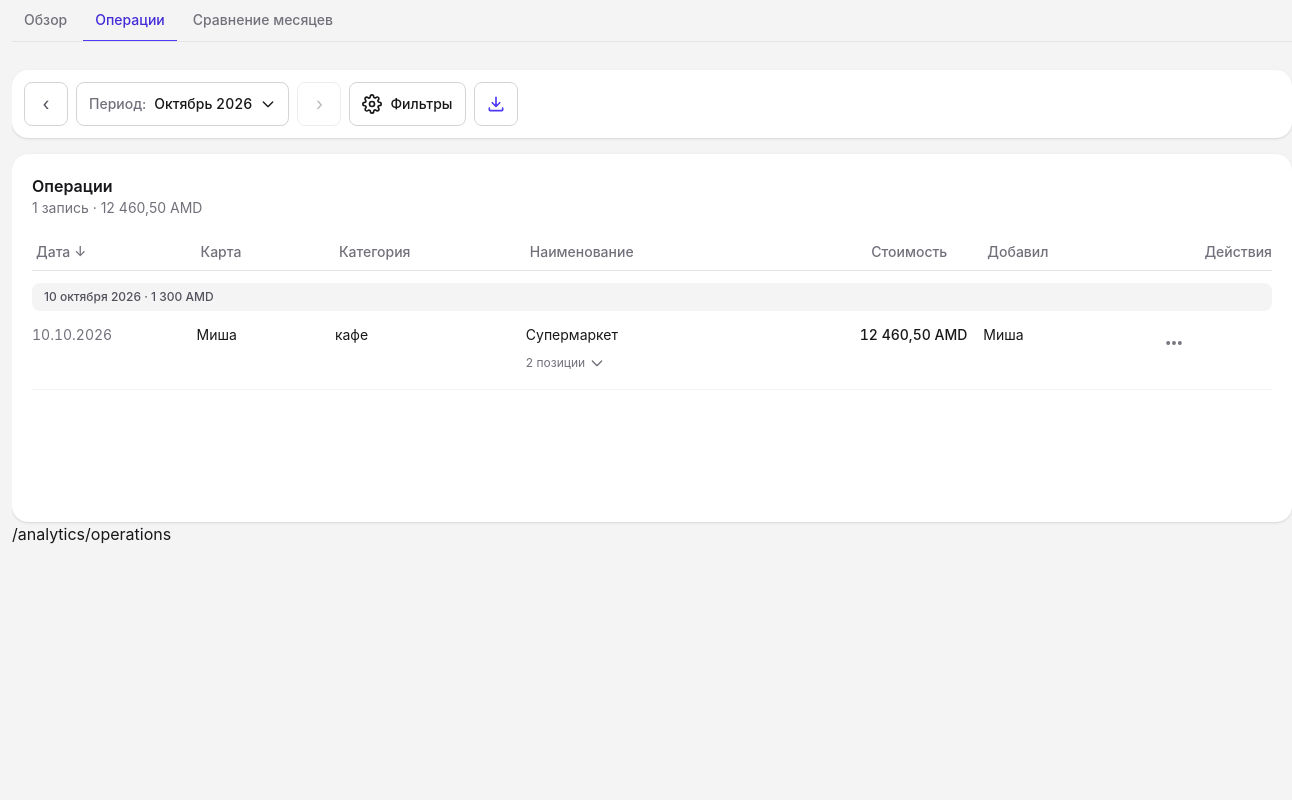
позиции в списке операций › клик раскрывает список; у сгенерированной позиции пометка AI, у ручной нет
Expected: the text "Супермаркет" is shown, 526,325 -> 618,345
Click the button "2 позиции": (569, 363) 526,347 -> 613,379
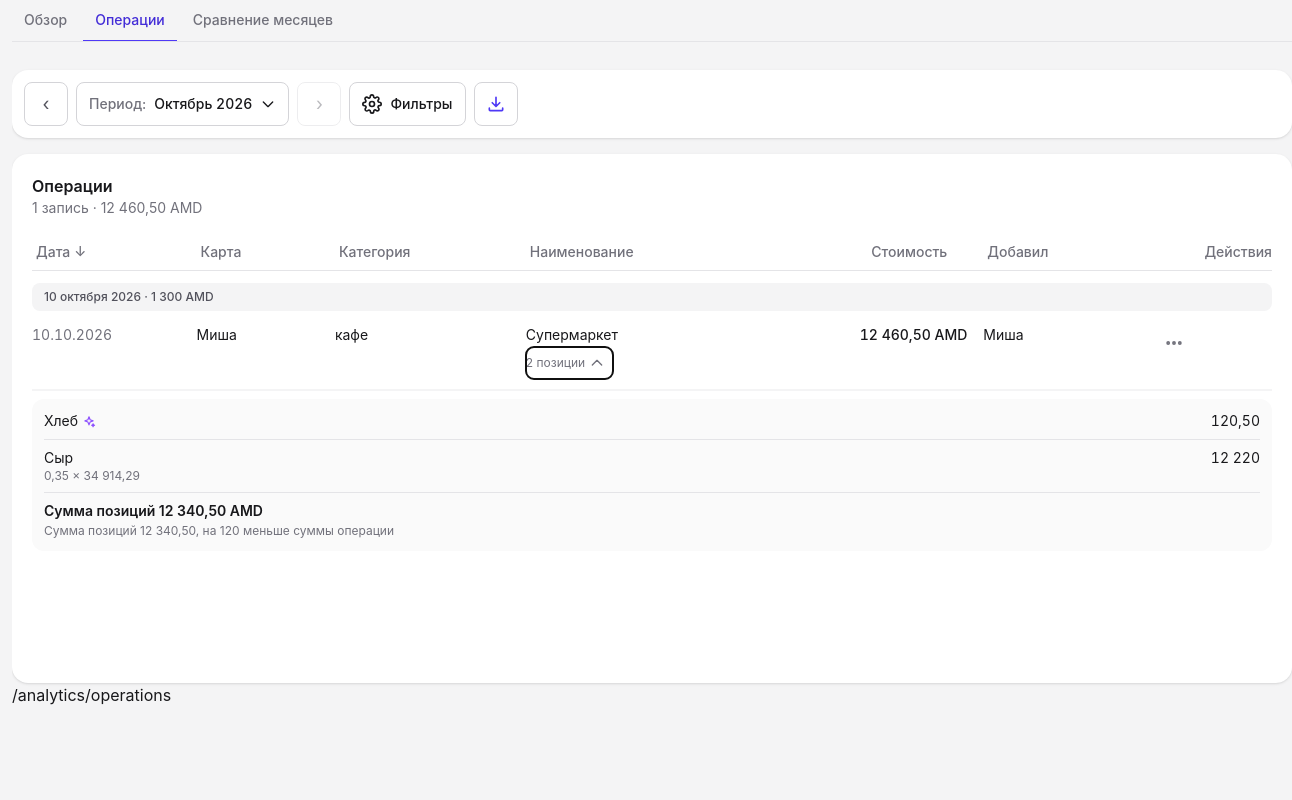
Expected: the picture named "Сгенерировано с помощью AI" is shown, 82,415 -> 96,429
Expected: the list item "Сыр 0,35 × 34 914,29 12 220" is shown, 44,440 -> 1260,492
